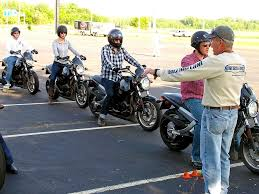helmet: (106, 27, 124, 48), (55, 25, 68, 39)
